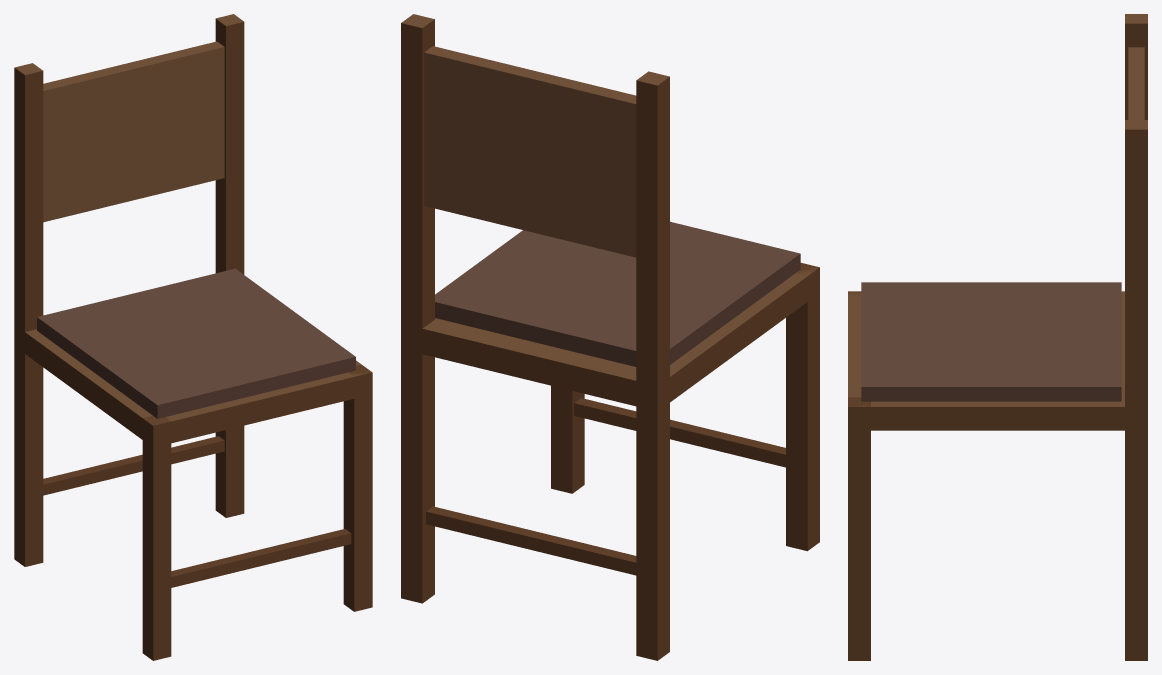
File: chair.glb
3 views of the same model, side by side, from view 1: azimuth 30°, elevation 25°; view 2: azimuth 150°, elevation 25°; view 3: azimuth 270°, elevation 25° (orthographic). The views are drawn at different scales.
Visible parts, largest first — view 1: chair; view 2: chair; view 3: chair.
Boxes of the visible parts, bbox=[...] form: chair: bbox=[14, 14, 372, 660]; chair: bbox=[401, 14, 819, 660]; chair: bbox=[848, 14, 1147, 660].
Bounding box in the file's own units: 0.4199 × 0.9 × 0.4601.
